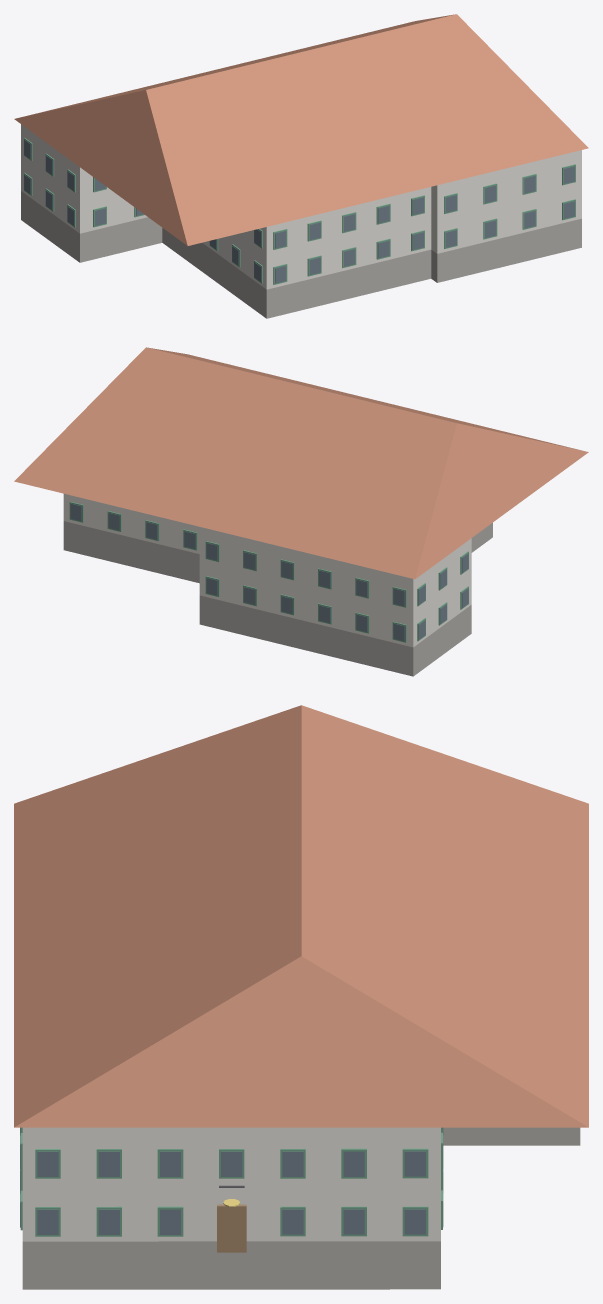
The model's file is inn-gasthaus-zum-engel.glb.
3 renders of one model, top to bottom at view 1: azimuth 30°, elevation 25°; view 2: azimuth 150°, elevation 25°; view 3: azimuth 270°, elevation 25°, orthographic. The views are drawn at different scales.
Visible parts, largest first — view 1: building; view 2: building; view 3: building.
Part boxes in pixels (box(x1,y1,x2,y2)): building: box(14, 14, 588, 318); building: box(14, 347, 588, 676); building: box(14, 705, 588, 1289).
Size of the model in its own units: 37.14 by 15.6 by 27.03.
